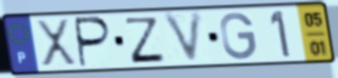1: (267, 9, 294, 60)
G: (218, 11, 259, 62)
P: (74, 15, 114, 70)
V: (160, 9, 206, 67)
X: (34, 17, 80, 69)
Z: (123, 16, 168, 65)
